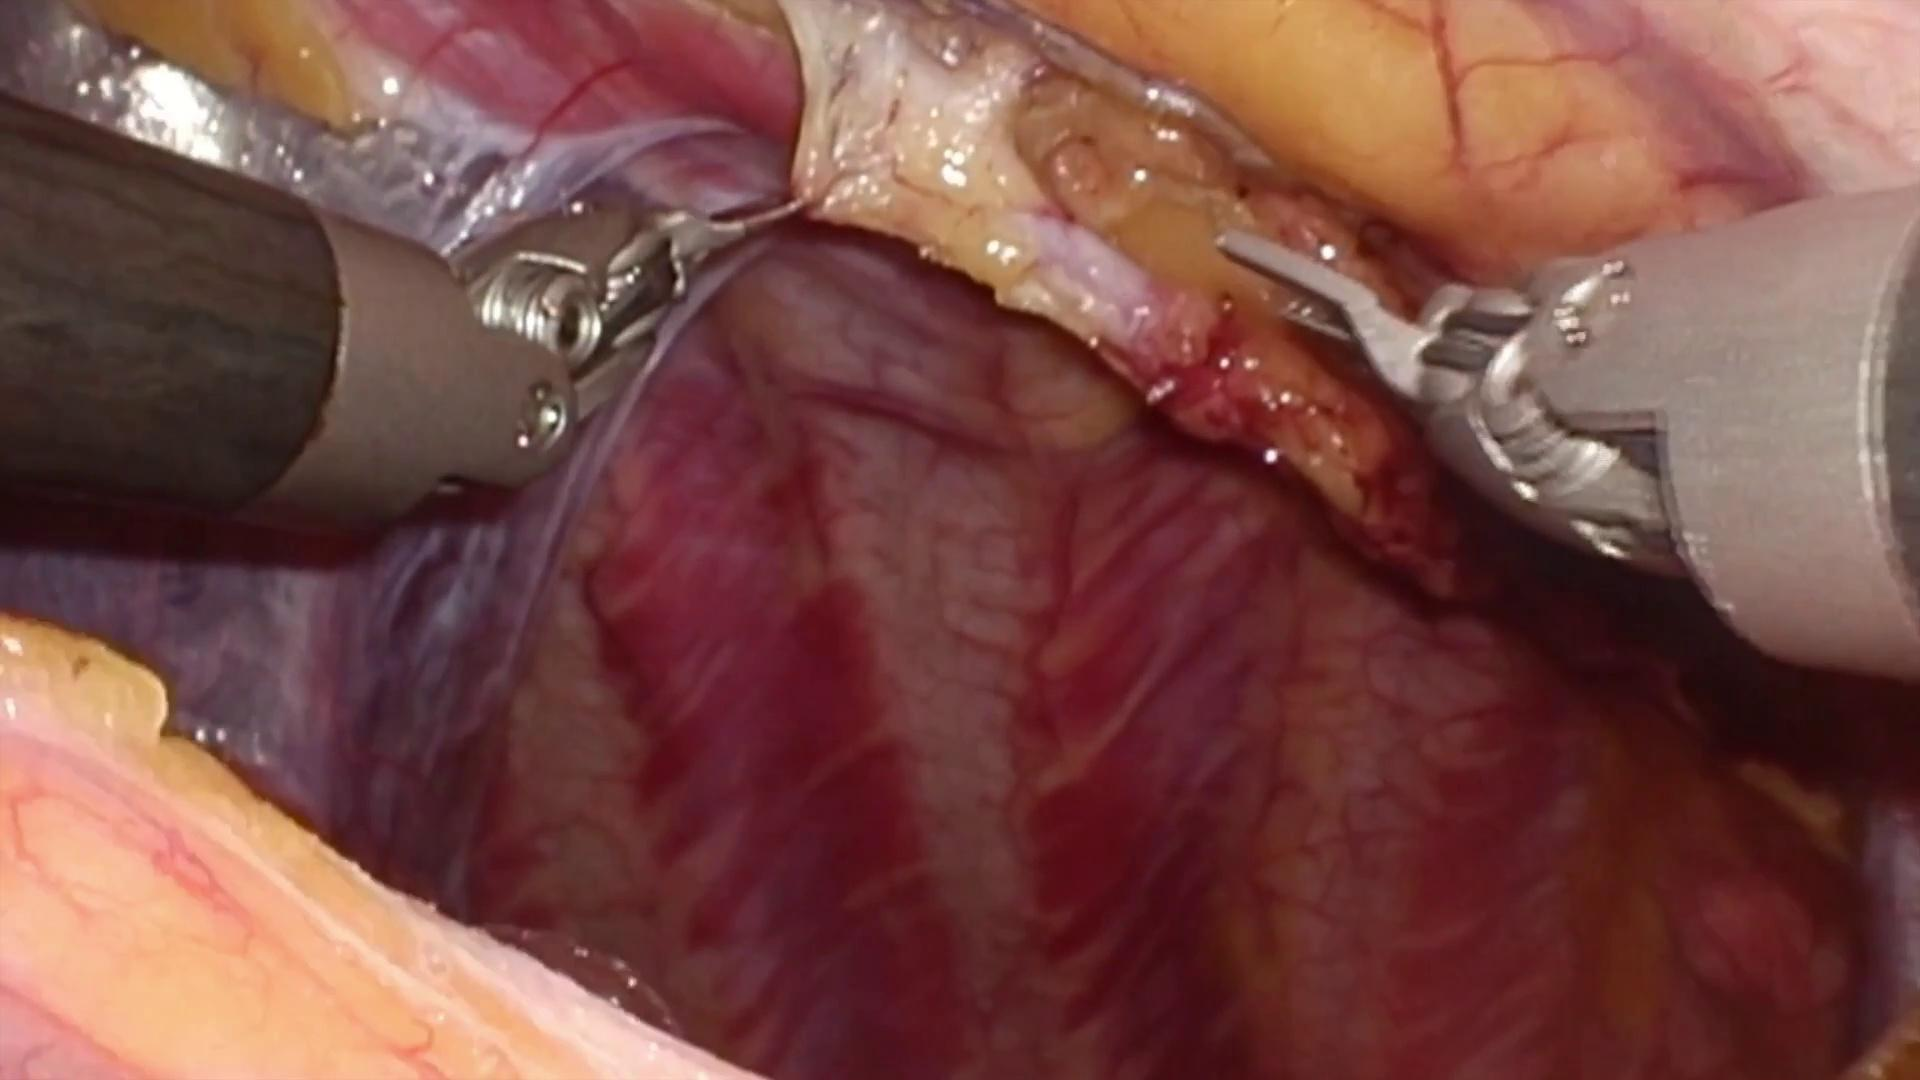Debakey: (650, 189, 832, 302)
clipper: (1220, 227, 1667, 559)
